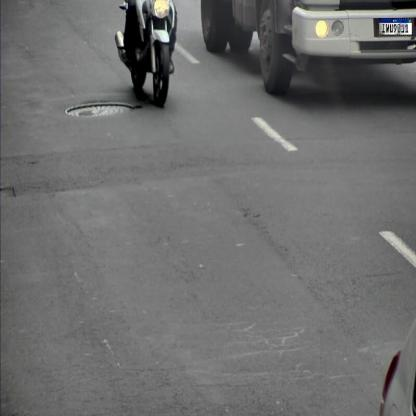PlacaM: (378, 18, 412, 35)
